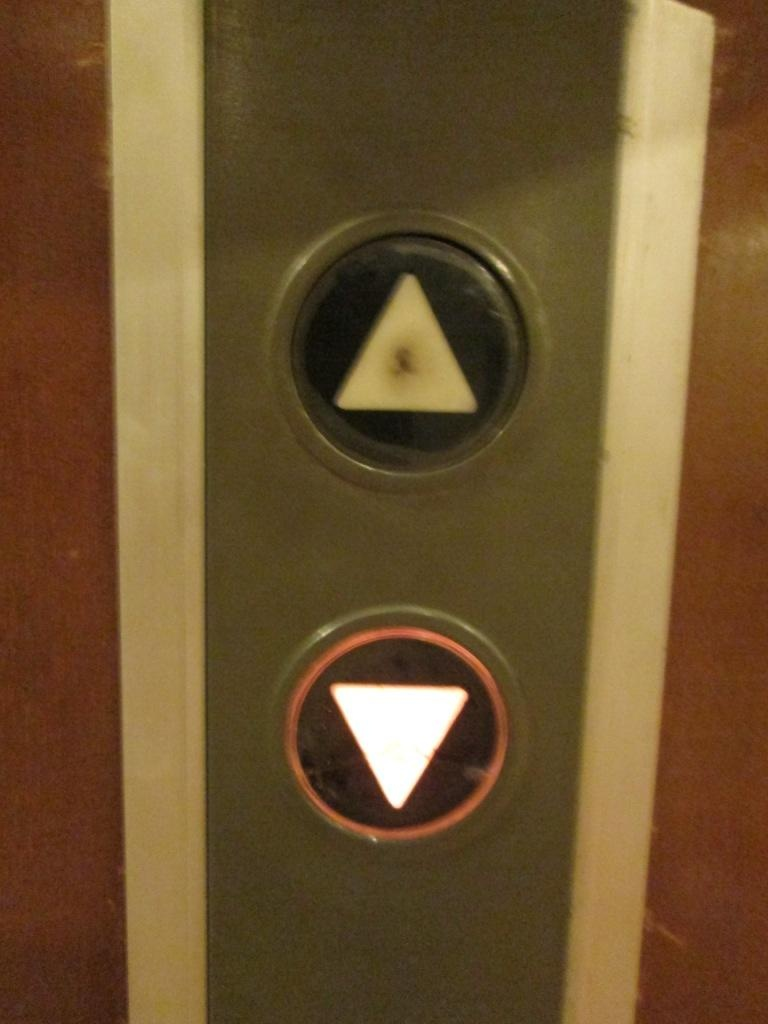down: (268, 604, 531, 860)
up: (268, 211, 548, 494)
